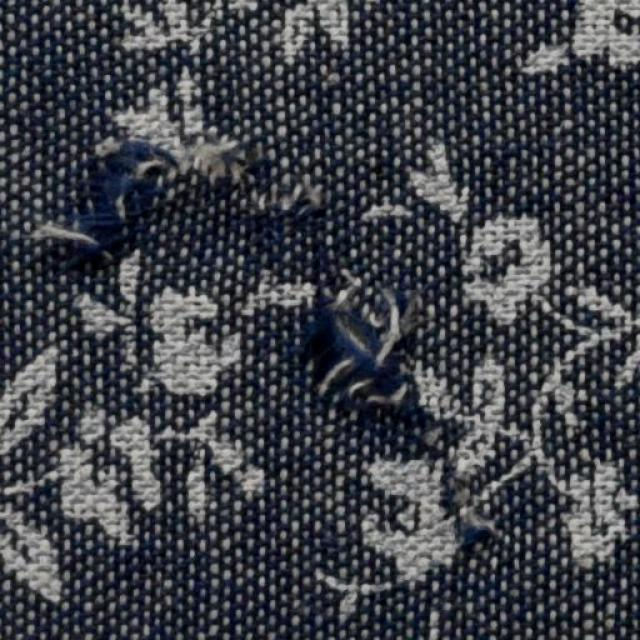Snag: (49, 128, 308, 287), (303, 286, 435, 445), (440, 483, 496, 546)
